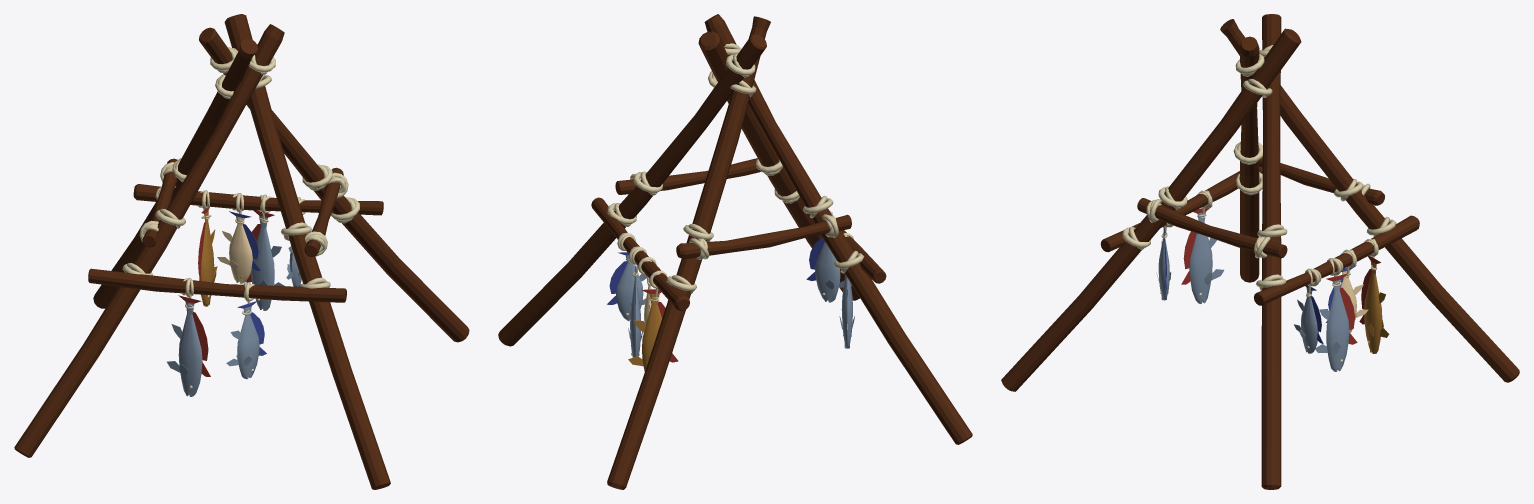
Rendered from fishRack.fbx.
3 views of the same model, side by side, from view 1: azimuth 30°, elevation 25°; view 2: azimuth 150°, elevation 25°; view 3: azimuth 270°, elevation 25° (orthographic). The views are drawn at different scales.
Parts seen in each view (by area): view 1: fishRack; view 2: fishRack; view 3: fishRack.
Part boxes in pixels (x1=…): fishRack: x1=14, y1=14, x2=469, y2=489; fishRack: x1=498, y1=14, x2=972, y2=489; fishRack: x1=1001, y1=14, x2=1519, y2=489.
Bounding box in the file's own units: 308 × 237 × 308.
